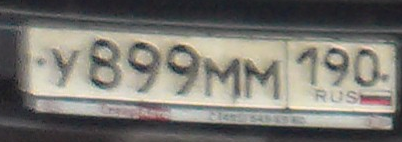character: (241, 52, 284, 105), (126, 35, 161, 95), (88, 34, 124, 92), (164, 42, 200, 100), (202, 54, 240, 102), (47, 41, 83, 91), (351, 47, 381, 89), (296, 45, 323, 90), (323, 45, 350, 87)
